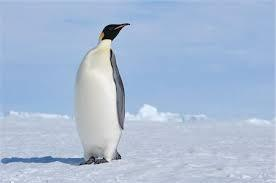king: (43, 2, 155, 169)
